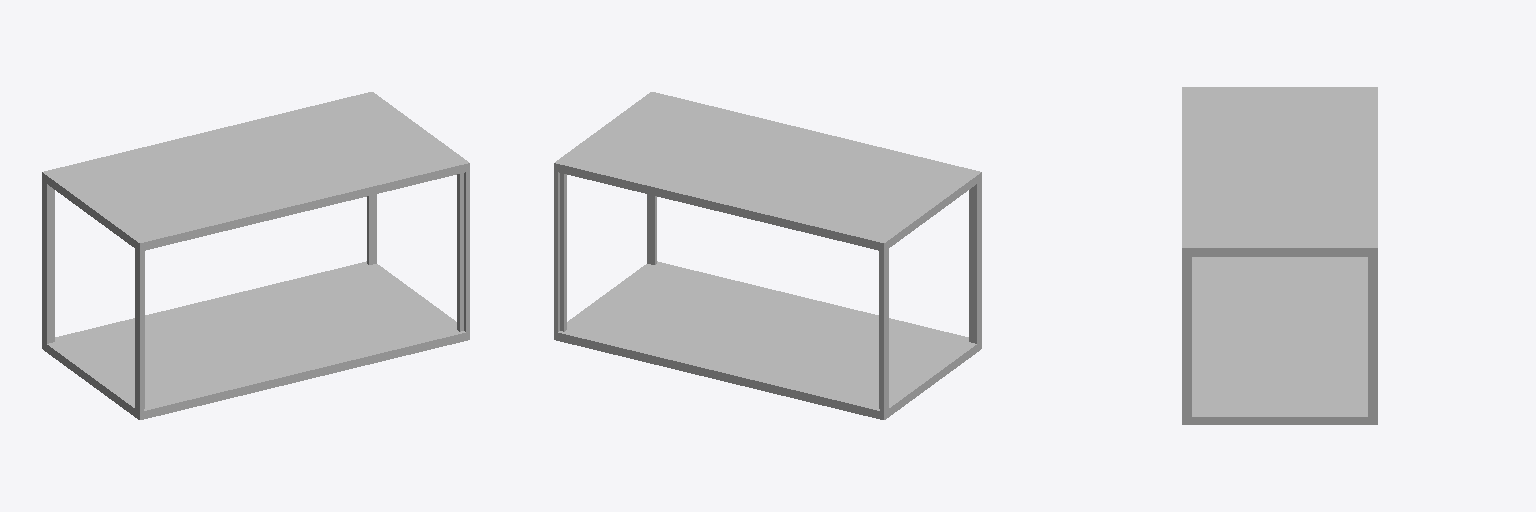
File: wardrobe.obj
3 views of the same model, side by side, from view 1: azimuth 30°, elevation 25°; view 2: azimuth 150°, elevation 25°; view 3: azimuth 270°, elevation 25° (orthographic).
Visible parts, largest first — view 1: object 1; view 2: object 1; view 3: object 1.
Boxes of the visible parts, <box> form: object 1: <box>42,92,469,419</box>; object 1: <box>554,92,981,419</box>; object 1: <box>1182,87,1377,424</box>.
Bounding box in the file's own units: 8.2 × 4.2 × 4.2.